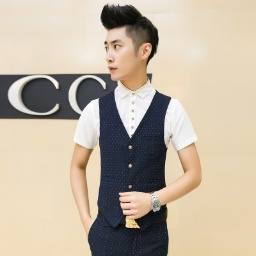face: (98, 2, 160, 80)
